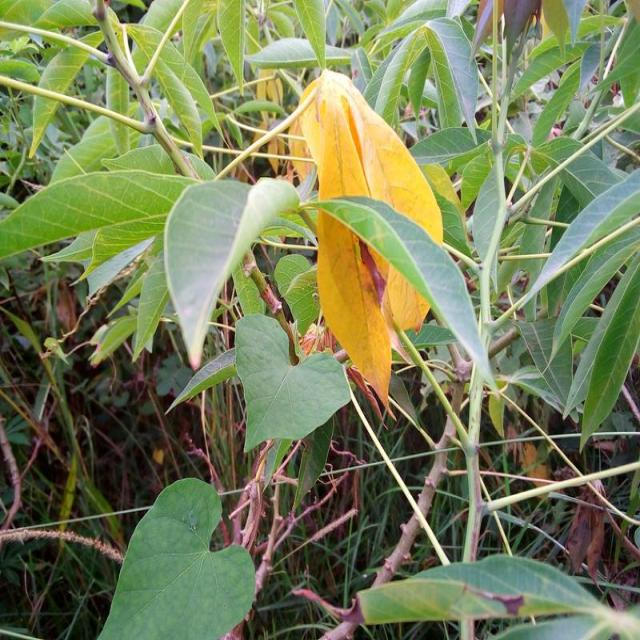cassava leaf: (288, 67, 446, 419), (314, 192, 498, 394), (96, 476, 256, 638), (233, 312, 351, 454)
